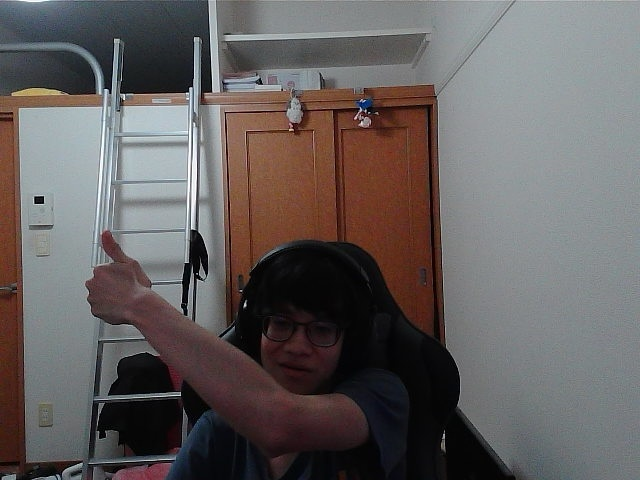thumb_up: (91, 234, 137, 313)
